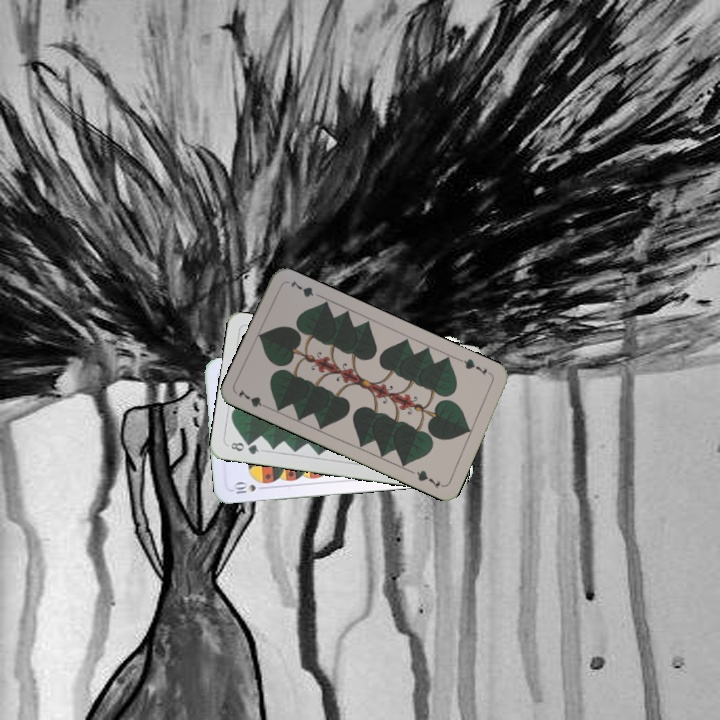G7: (234, 385, 272, 412), (456, 355, 495, 379)
G8: (226, 438, 262, 457)
S10: (229, 479, 269, 496)
